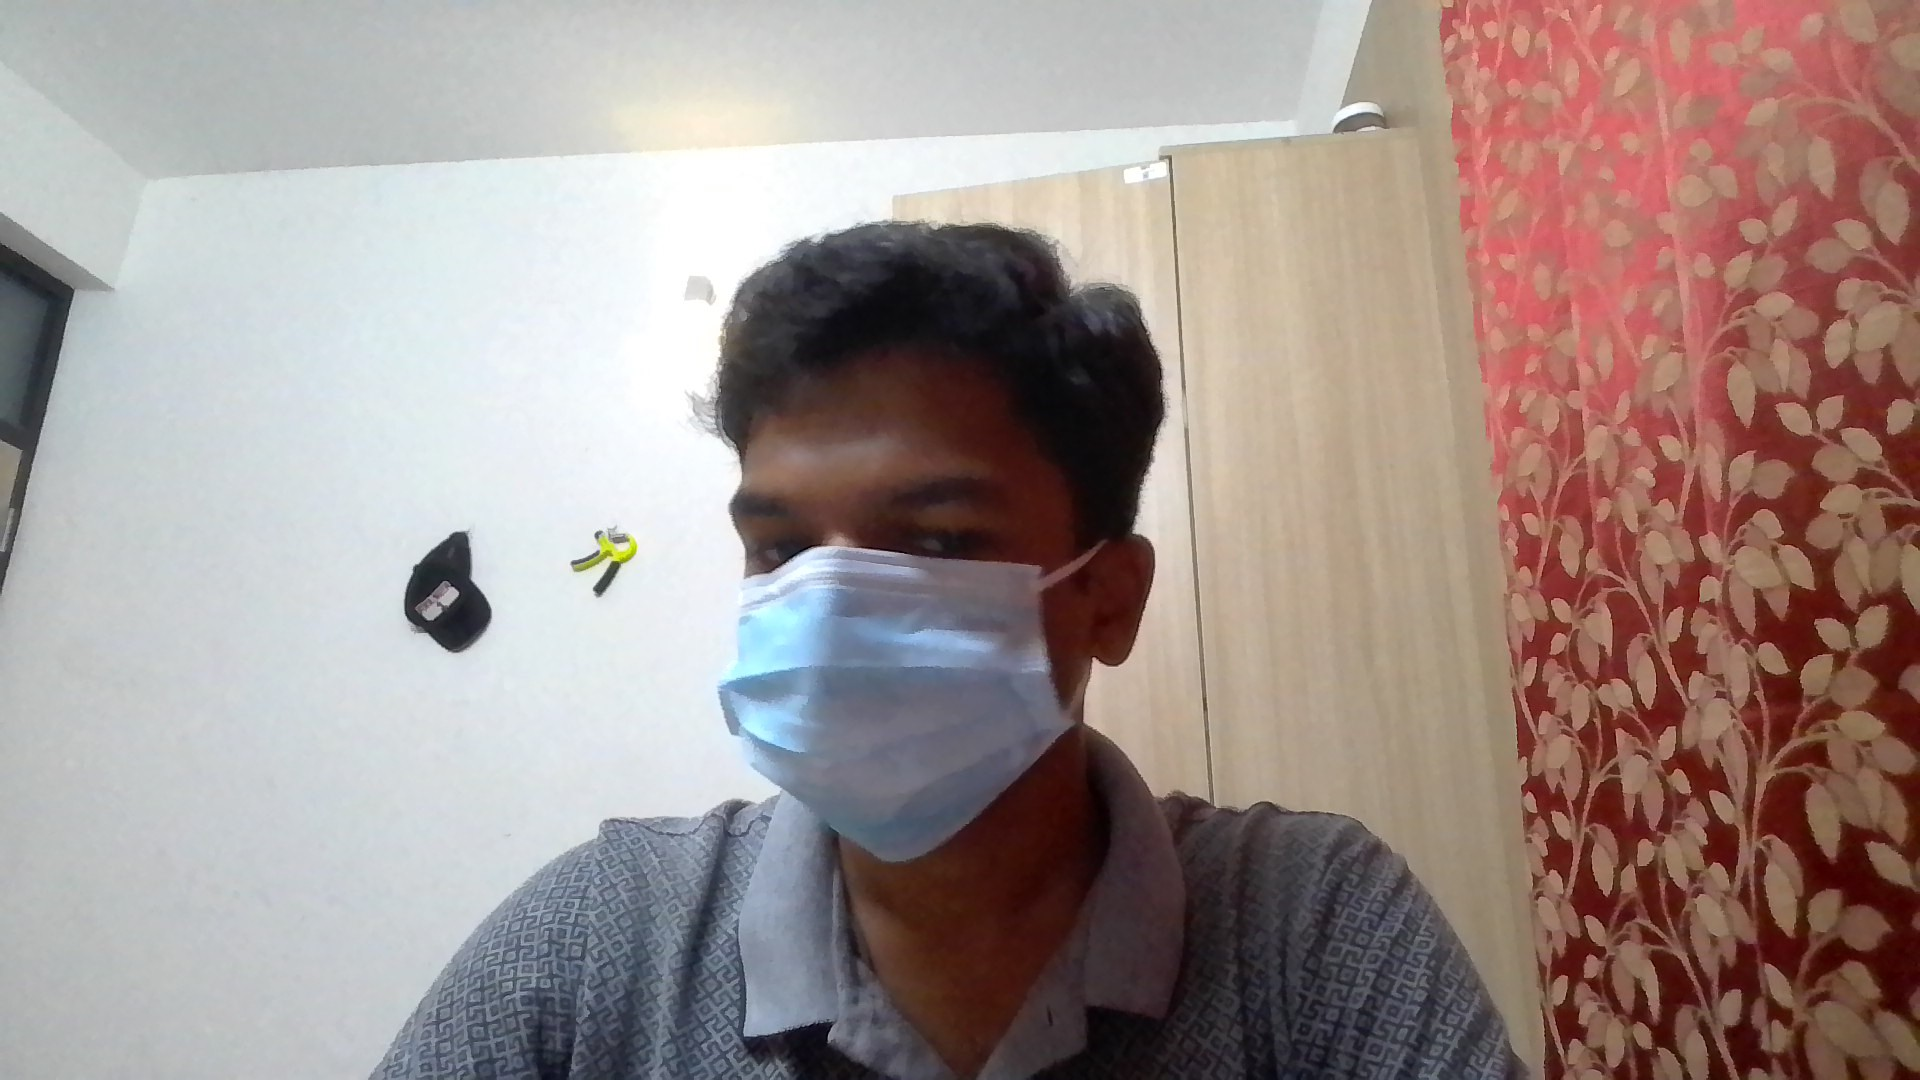Mask: (678, 546, 1124, 872)
